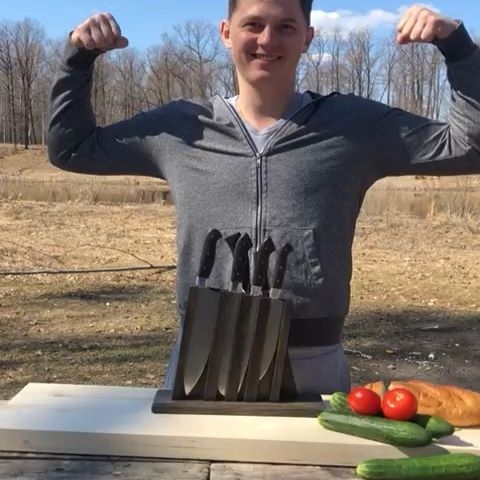knife: (184, 227, 222, 396), (258, 242, 293, 381)
